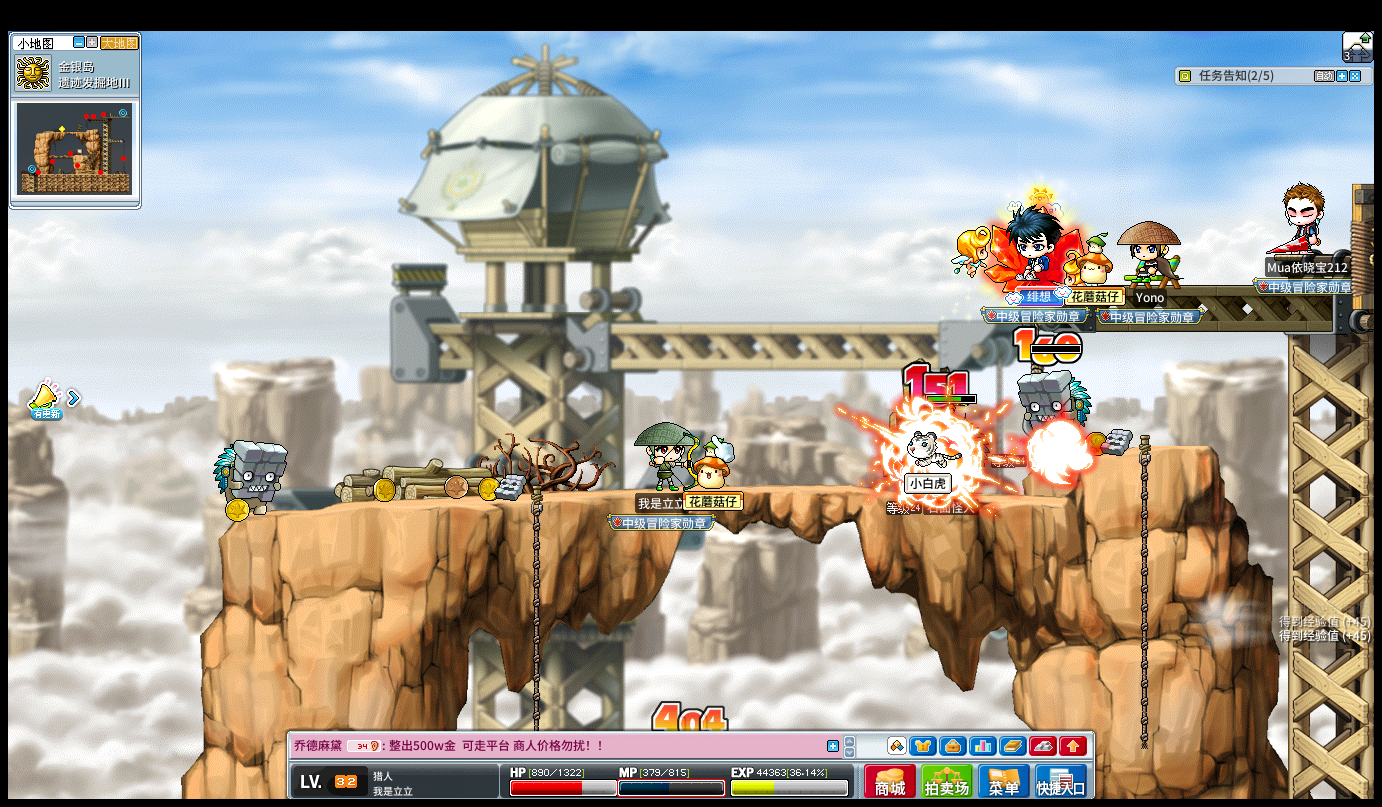floor: (233, 478, 1047, 513), (239, 481, 1124, 506)
monster: (212, 439, 288, 517), (1018, 369, 1090, 426)
rope: (1135, 434, 1152, 766), (1137, 437, 1151, 657), (529, 485, 541, 685)
